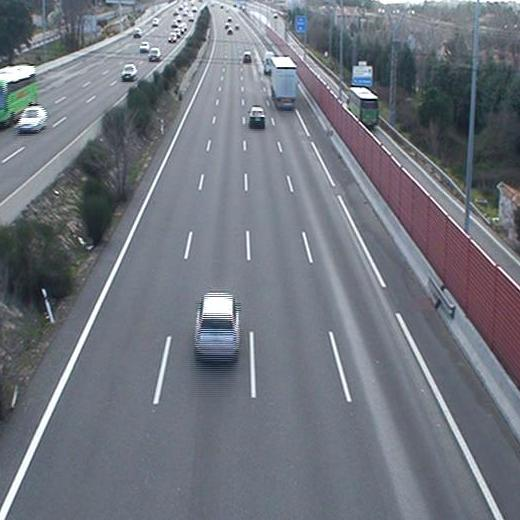car: (193, 290, 241, 362), (247, 106, 268, 129), (242, 51, 253, 63)
truck: (266, 56, 300, 111)
